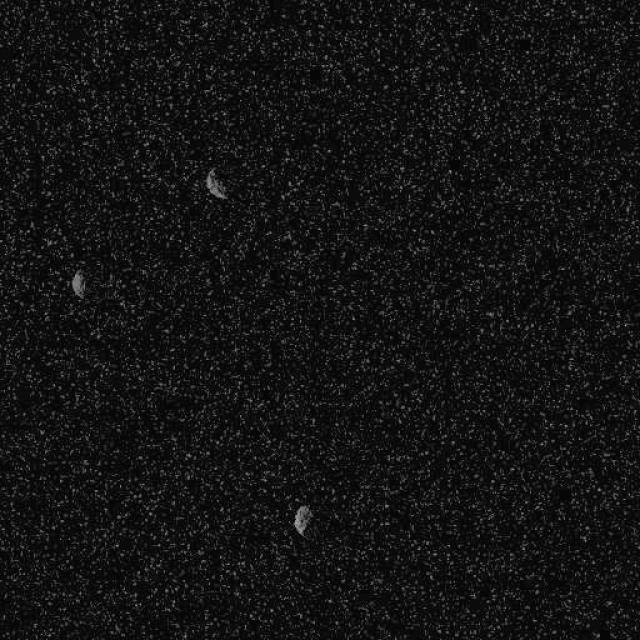D2: (204, 166, 228, 200), (292, 503, 312, 538), (70, 268, 86, 298)
